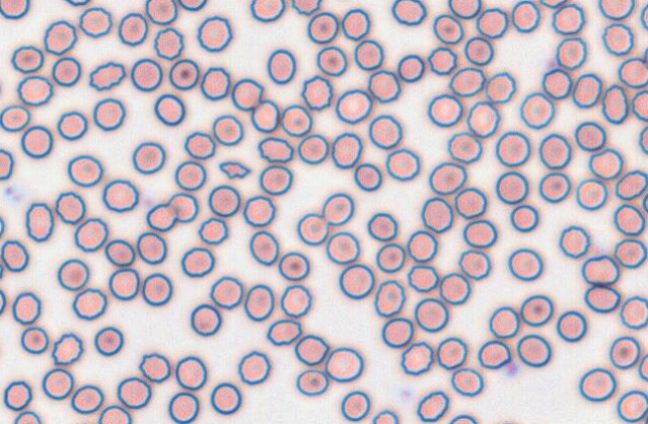PLT: (506, 364, 519, 378)
RBC: (324, 346, 363, 382), (338, 263, 375, 299), (335, 88, 372, 124), (519, 92, 555, 129), (578, 367, 616, 402), (495, 130, 530, 167), (197, 15, 232, 52), (466, 100, 500, 138), (428, 161, 466, 195), (102, 178, 139, 212), (373, 279, 406, 317), (73, 217, 108, 252), (414, 297, 449, 332), (427, 93, 463, 127), (507, 247, 543, 281), (420, 196, 453, 233), (581, 254, 620, 285), (237, 350, 271, 385), (516, 333, 551, 367), (368, 114, 402, 149), (43, 20, 77, 55), (300, 74, 333, 110), (71, 287, 107, 320), (116, 376, 152, 409), (67, 154, 103, 187), (538, 133, 571, 169), (243, 283, 274, 321), (25, 202, 54, 242), (400, 341, 434, 375), (367, 69, 401, 103), (209, 275, 243, 309), (325, 231, 360, 264), (385, 148, 420, 181), (588, 147, 623, 180), (448, 66, 485, 97), (88, 61, 126, 91), (92, 97, 125, 131), (447, 131, 482, 163), (175, 355, 207, 390), (331, 132, 362, 168), (248, 230, 279, 266), (17, 75, 53, 106), (601, 83, 628, 124), (321, 192, 354, 225), (207, 184, 240, 217), (495, 171, 528, 204), (20, 125, 53, 158), (132, 141, 165, 174), (280, 103, 312, 137), (231, 77, 263, 111), (555, 36, 587, 70), (78, 6, 112, 38), (551, 3, 585, 35), (294, 334, 329, 365), (180, 246, 215, 277), (266, 48, 296, 84), (572, 72, 602, 108), (296, 212, 328, 245), (51, 332, 83, 365), (613, 203, 645, 236), (439, 272, 471, 305), (416, 390, 449, 422), (406, 229, 438, 262), (54, 191, 86, 224), (41, 368, 74, 400), (520, 294, 553, 326), (57, 258, 89, 291), (454, 187, 487, 219), (436, 336, 468, 369), (558, 225, 590, 258), (242, 195, 275, 227), (575, 178, 608, 210), (307, 11, 339, 44), (153, 93, 185, 126), (130, 58, 162, 91), (601, 23, 634, 55), (280, 284, 311, 318), (259, 164, 293, 195), (609, 335, 640, 369), (141, 272, 172, 306), (117, 12, 148, 46), (584, 284, 620, 313), (614, 169, 647, 200), (381, 317, 414, 348), (138, 352, 171, 383), (210, 382, 241, 415), (458, 249, 491, 280), (488, 305, 519, 338), (136, 231, 167, 264), (190, 303, 221, 336), (153, 27, 184, 60), (538, 172, 571, 203), (475, 7, 508, 38), (250, 99, 280, 133), (70, 384, 104, 414), (613, 238, 647, 268), (200, 66, 230, 100), (462, 219, 497, 248), (266, 318, 302, 346), (616, 390, 647, 422), (108, 268, 139, 300), (168, 391, 199, 423), (556, 310, 587, 342), (297, 133, 329, 164), (485, 71, 516, 103), (174, 160, 206, 191), (212, 114, 243, 146), (168, 58, 199, 90), (450, 367, 484, 396), (12, 291, 41, 325), (257, 136, 293, 163), (541, 68, 572, 99), (353, 39, 384, 70), (316, 45, 347, 76), (432, 13, 463, 44), (278, 251, 310, 281), (574, 121, 606, 151), (56, 110, 88, 140), (0, 239, 29, 272), (619, 295, 647, 329), (10, 45, 44, 73), (167, 192, 198, 222), (340, 390, 370, 421), (375, 242, 405, 273), (617, 57, 647, 88), (93, 326, 124, 356), (463, 36, 494, 66), (51, 56, 81, 87), (366, 212, 398, 241), (341, 8, 370, 40), (511, 0, 540, 32), (295, 369, 329, 396), (146, 203, 177, 232), (3, 380, 32, 411), (197, 216, 228, 245), (104, 238, 135, 267), (184, 131, 215, 160), (407, 264, 439, 292), (391, 0, 426, 25), (427, 46, 457, 75), (353, 162, 382, 191), (0, 104, 30, 132), (144, 0, 177, 25), (20, 326, 49, 354), (509, 204, 538, 232), (249, 0, 285, 22), (397, 54, 425, 82), (598, 0, 635, 20), (98, 404, 132, 423), (447, 0, 481, 19), (0, 0, 30, 19), (631, 90, 647, 121), (291, 0, 321, 15), (0, 148, 14, 180), (372, 409, 398, 423), (14, 410, 41, 423), (178, 0, 207, 11), (638, 124, 647, 155), (448, 414, 478, 423), (638, 352, 647, 381), (539, 0, 567, 9), (640, 2, 648, 30), (0, 288, 6, 315), (64, 0, 91, 6), (642, 191, 648, 214), (495, 419, 520, 424), (0, 215, 5, 237), (643, 46, 648, 66), (0, 75, 3, 99), (0, 262, 4, 280)
Schistocyte: (479, 341, 513, 369), (220, 161, 251, 180)
